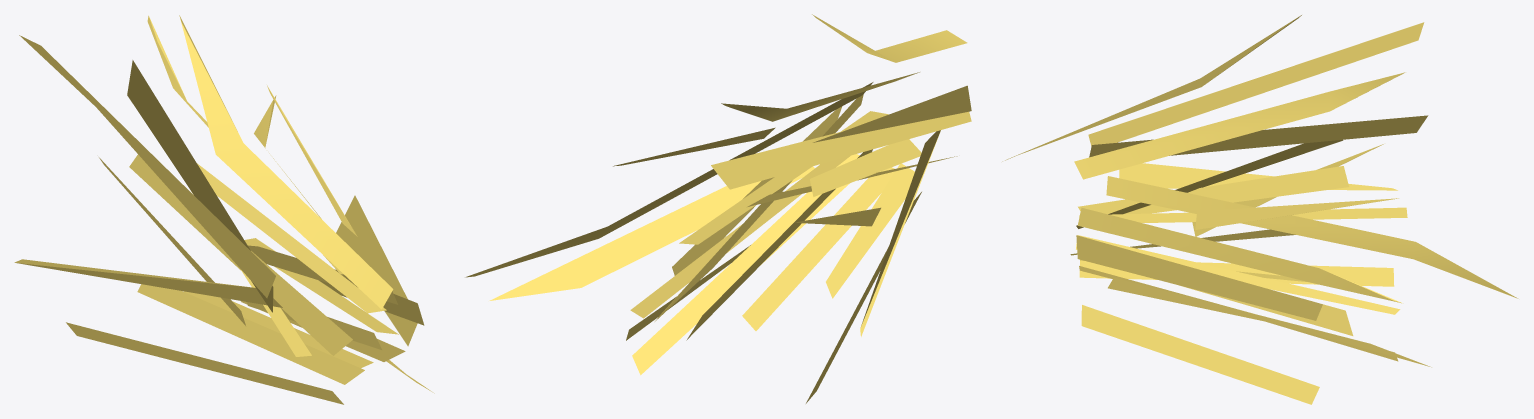
Rendered from yellow_grass.fbx.
The picture shows the model from 3 angles, left to right: view 1: azimuth 30°, elevation 25°; view 2: azimuth 150°, elevation 25°; view 3: azimuth 270°, elevation 25°; orthographic projection. The views are drawn at different scales.
Parts seen in each view (by area): view 1: export_yellow_grass; view 2: export_yellow_grass; view 3: export_yellow_grass.
Part boxes in pixels (x1,y1,x2,y2): export_yellow_grass: [14, 15, 434, 404]; export_yellow_grass: [465, 14, 971, 403]; export_yellow_grass: [1002, 15, 1518, 404].
Bounding box in the file's own units: 33.55 × 33.47 × 50.01.
